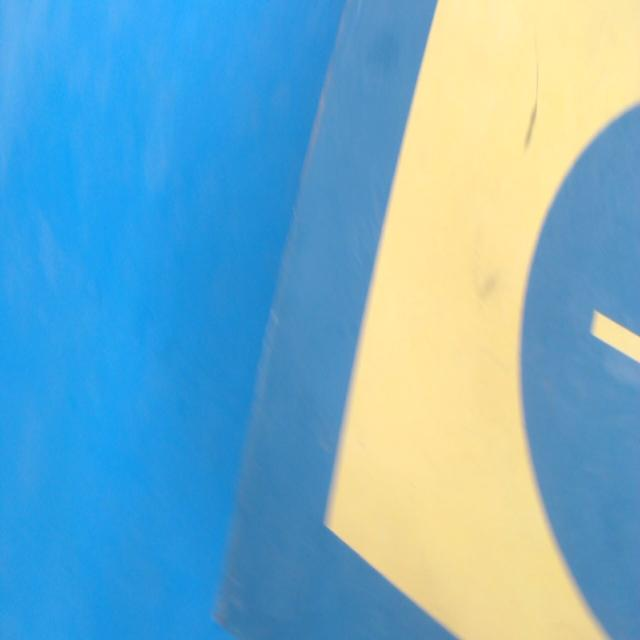base_inicio: (321, 0, 640, 639)
